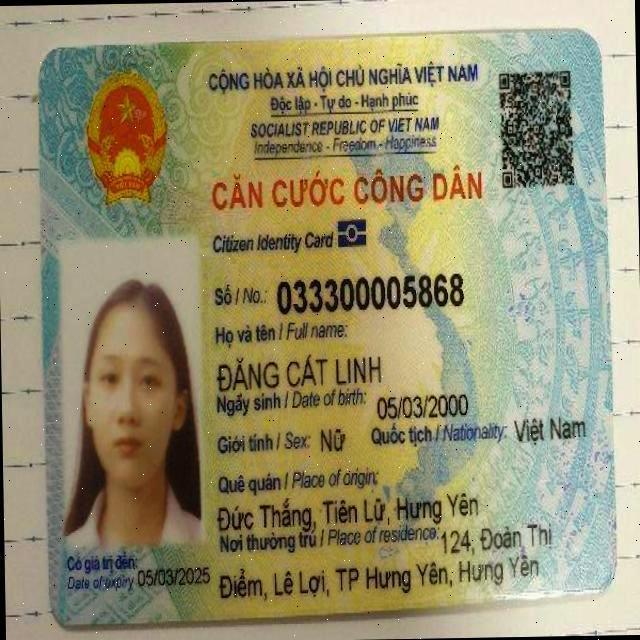current_place: (214, 554, 541, 602), (439, 520, 554, 556)
dob: (373, 391, 472, 420)
expire_date: (136, 560, 210, 589)
gender: (314, 421, 352, 461)
id: (273, 273, 469, 314)
name: (213, 349, 384, 392)
nationality: (507, 403, 588, 444)
origin_place: (215, 495, 480, 530)
